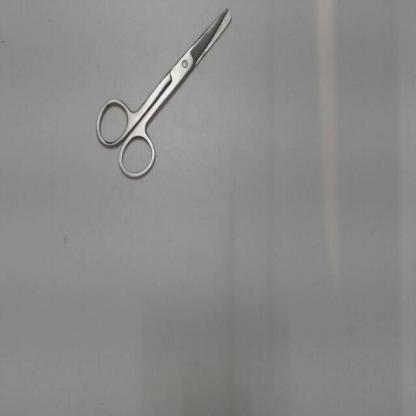Dressing Scissors: (90, 2, 242, 189)
